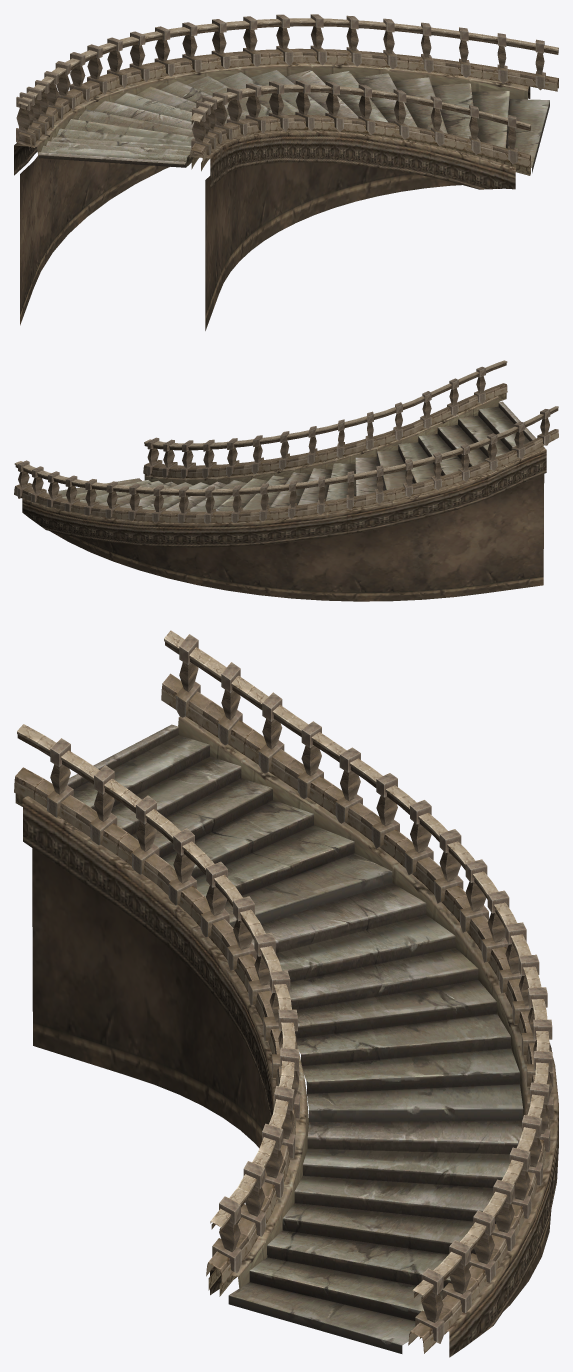
File: blsd4_louti_hao_2.FBX
3 renders of one model, top to bottom at view 1: azimuth 30°, elevation 25°; view 2: azimuth 150°, elevation 25°; view 3: azimuth 270°, elevation 25°, orthographic. The views are drawn at different scales.
Parts seen in each view (by area): view 1: blsd4_louti_a_006, blsd4_louti_b_006; view 2: blsd4_louti_a_006, blsd4_louti_b_006; view 3: blsd4_louti_a_006, blsd4_louti_b_006.
Part boxes in pixels (bbox=[...]): blsd4_louti_a_006: bbox=[14, 63, 549, 330]; blsd4_louti_b_006: bbox=[16, 14, 558, 175]; blsd4_louti_a_006: bbox=[22, 396, 546, 601]; blsd4_louti_b_006: bbox=[14, 360, 558, 523]; blsd4_louti_a_006: bbox=[22, 716, 558, 1357]; blsd4_louti_b_006: bbox=[14, 630, 553, 1353].
Bounding box in the file's own units: 1577 × 555 × 834.
